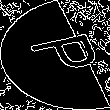P_E: (11, 30, 99, 80)
